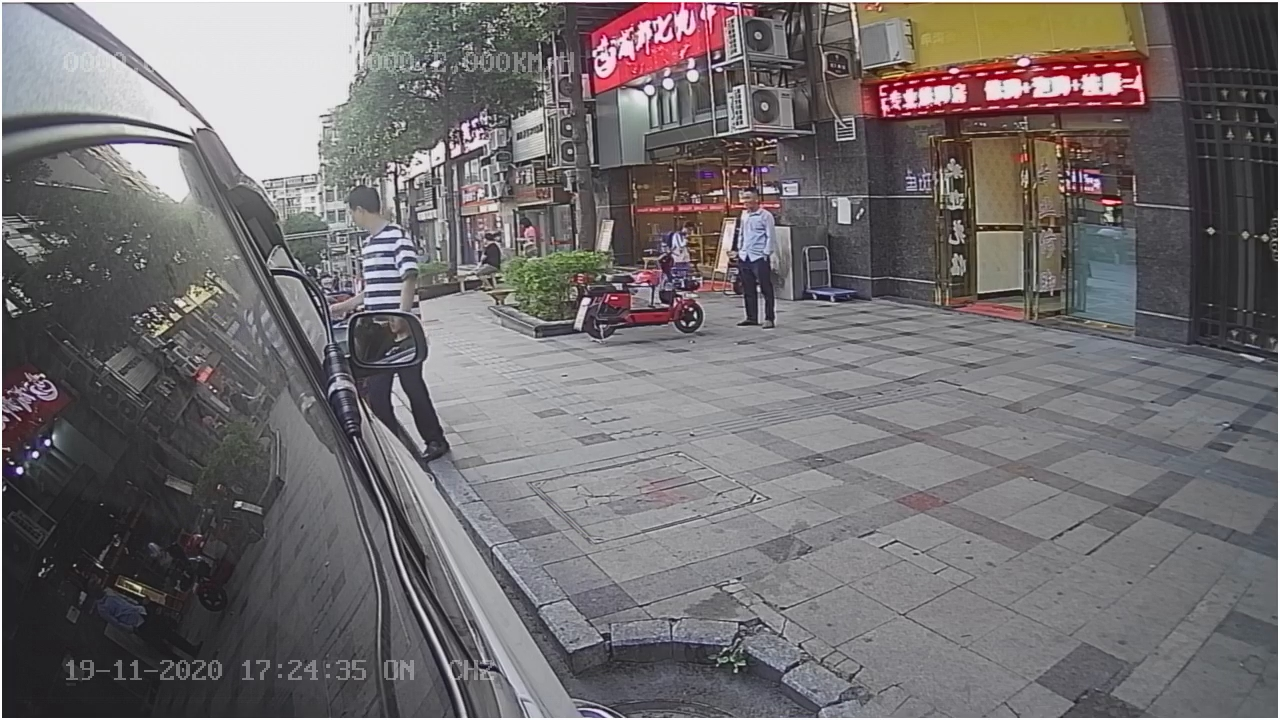person: (341, 184, 428, 305)
